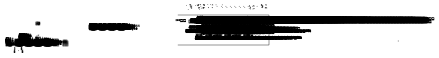room: (223, 37, 224, 39), (213, 36, 213, 39), (224, 38, 224, 38)
staircase: (0, 7, 6, 14), (14, 9, 14, 9)
wall: (223, 37, 224, 39), (229, 36, 230, 37)
